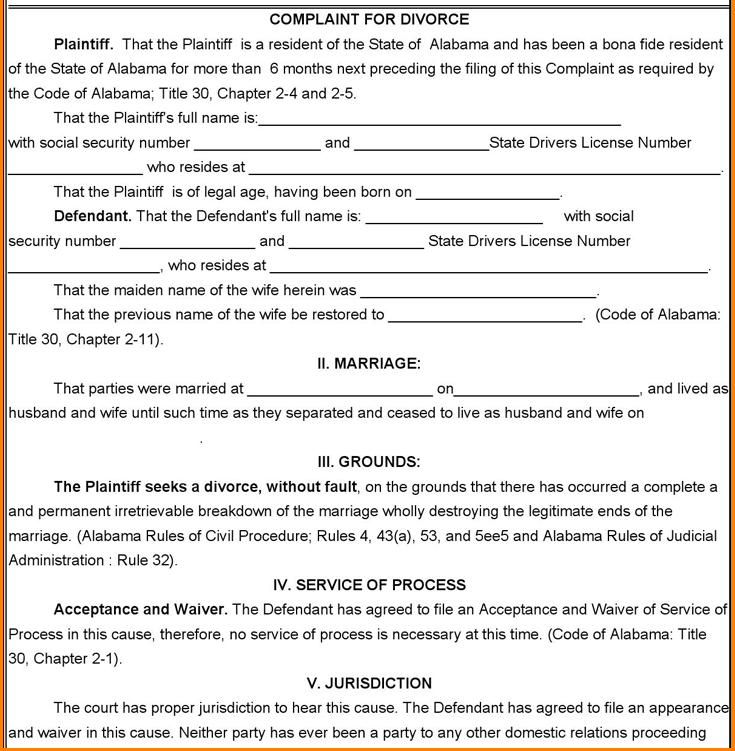textline: (246, 155, 723, 178), (265, 256, 712, 275), (256, 111, 623, 129), (355, 281, 598, 300), (385, 304, 585, 325), (452, 377, 639, 399), (243, 378, 437, 399), (363, 208, 543, 226), (4, 256, 162, 276), (412, 184, 563, 202), (120, 232, 258, 251), (287, 232, 425, 251), (351, 135, 489, 153), (3, 159, 141, 177), (191, 135, 322, 152)
